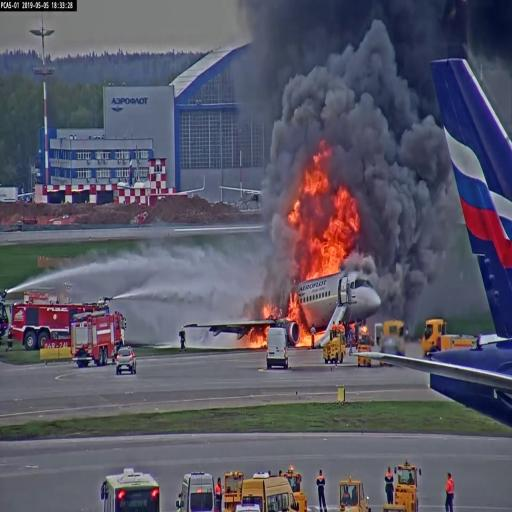fire: (293, 163, 354, 277), (286, 293, 302, 322)
smoke: (259, 0, 418, 160), (358, 11, 438, 257)
